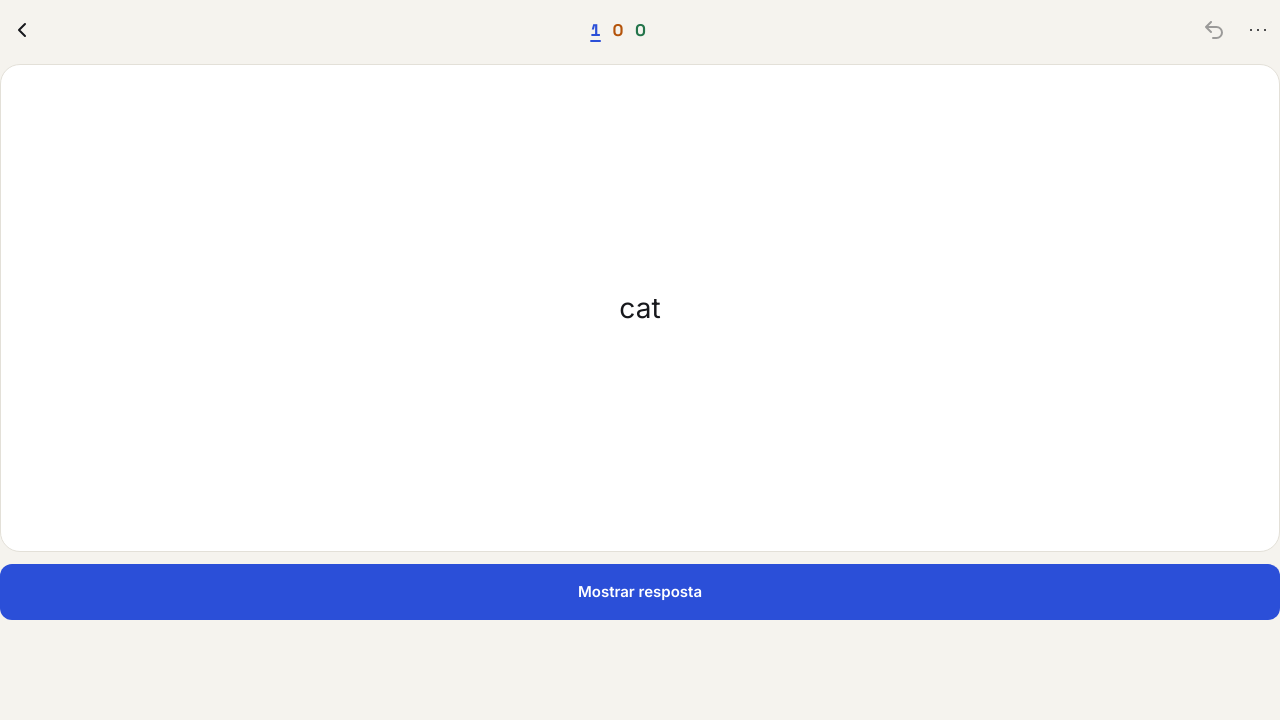
it: StudyScreen › buries the card until tomorrow, and can undo it
Click the button named "Mais ações": click(1258, 30) [1236,8,1279,52]
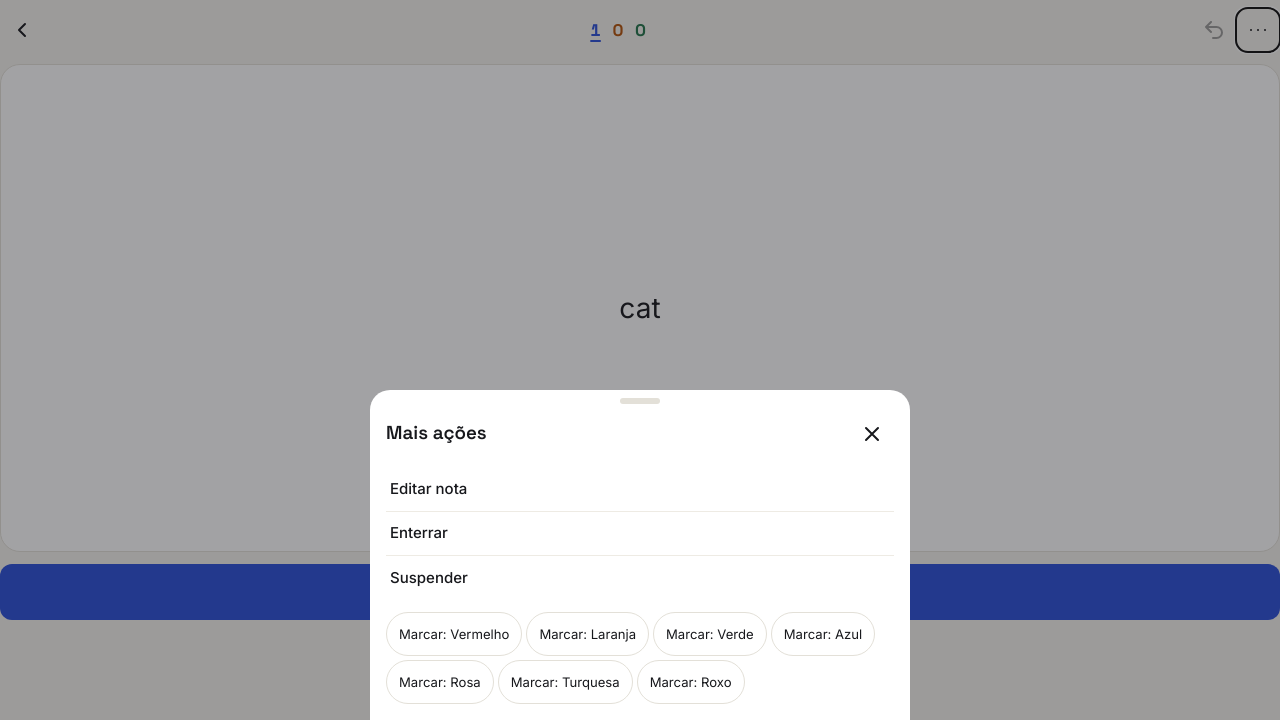
Click the button "Enterrar": click(419, 533) [386,512,894,556]
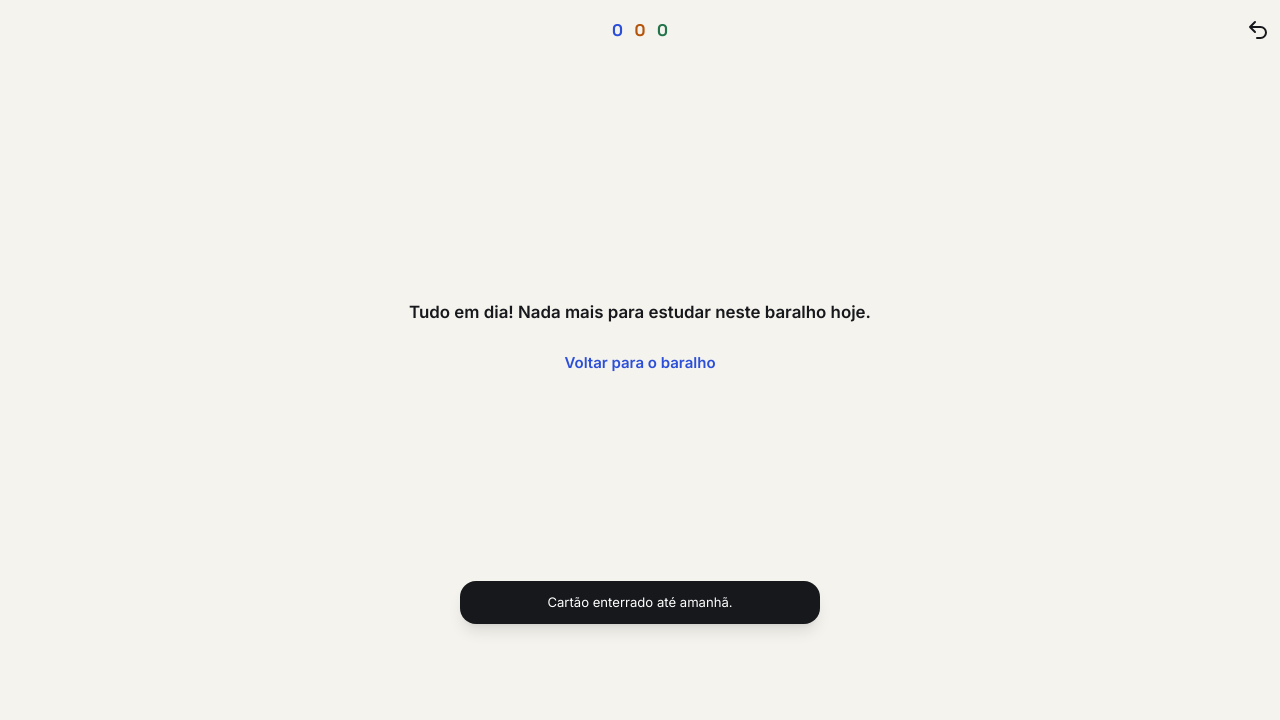
Check: the message reads "Cartão enterrado até amanhã.", box [547,594,733,610]
Check: the text "Tudo em dia! Nada mais para estudar neste baralho hoje." is shown, box [409,299,871,325]
Click the button named "Desfazer": click(1258, 30) [1236,8,1279,52]
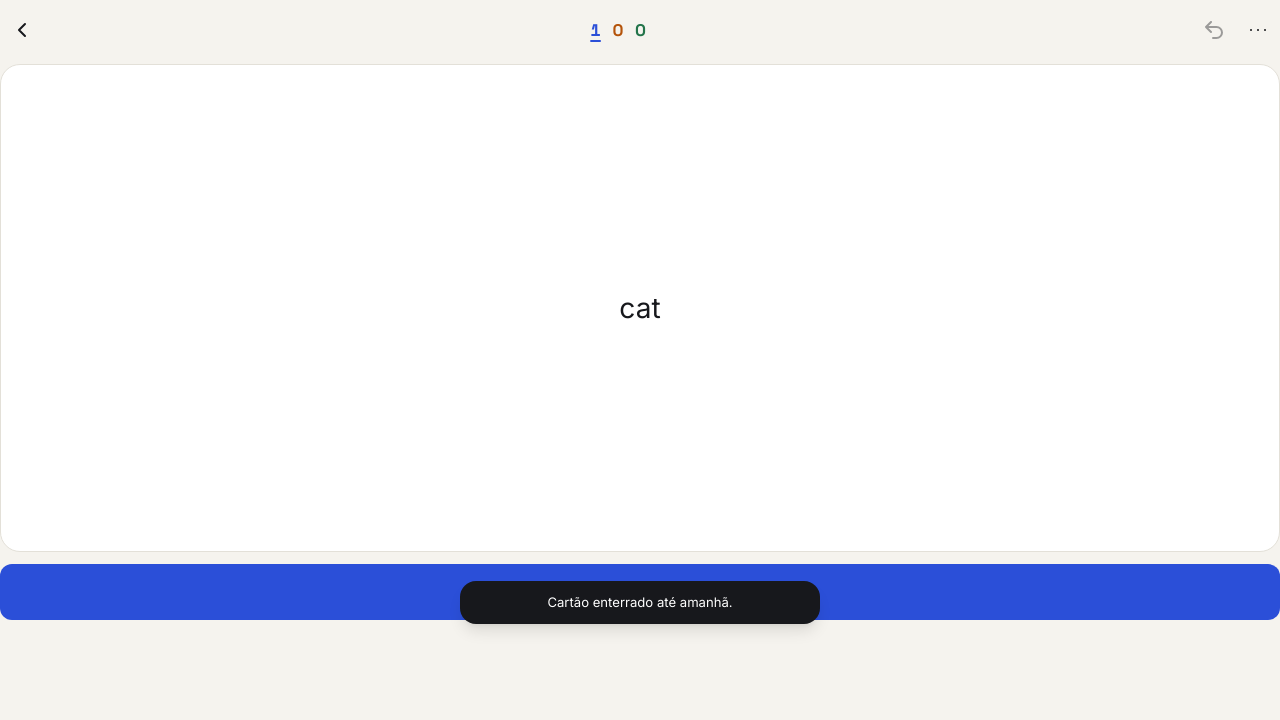
Check: the text with test id "card-content" reads "cat", box [619,291,661,325]
